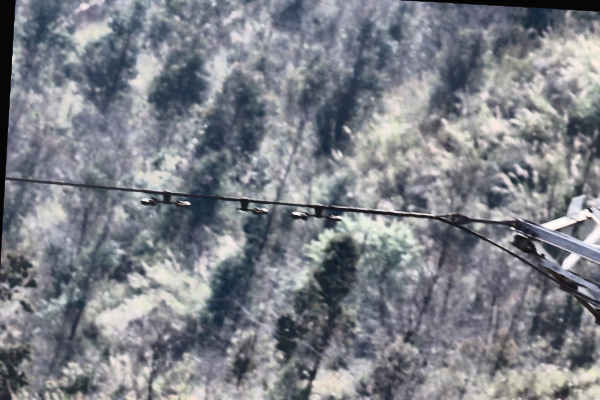damper: (288, 201, 344, 223), (138, 187, 192, 208)
damper_defect: (233, 194, 270, 216)
